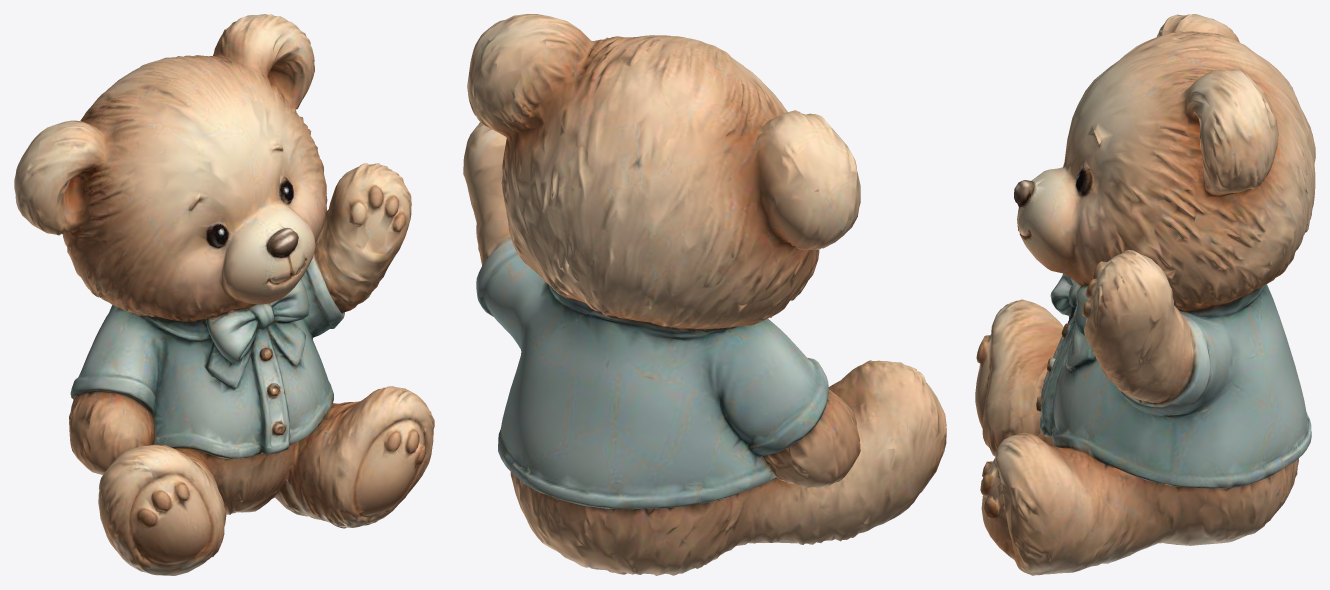
3 views of the same model, side by side, from view 1: azimuth 30°, elevation 25°; view 2: azimuth 150°, elevation 25°; view 3: azimuth 270°, elevation 25° (orthographic). The views are drawn at different scales.
Bounding box in the file's own units: 1.58 × 1.9 × 1.21.
Materials: 1 (1 with a texture image).
